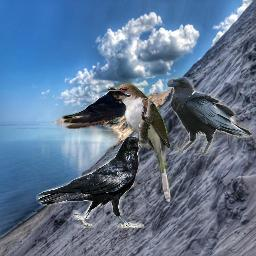Crow: (36, 136, 151, 228), (165, 77, 252, 156)
Cuckoo: (106, 82, 171, 203)
Swallow: (62, 90, 132, 129)
